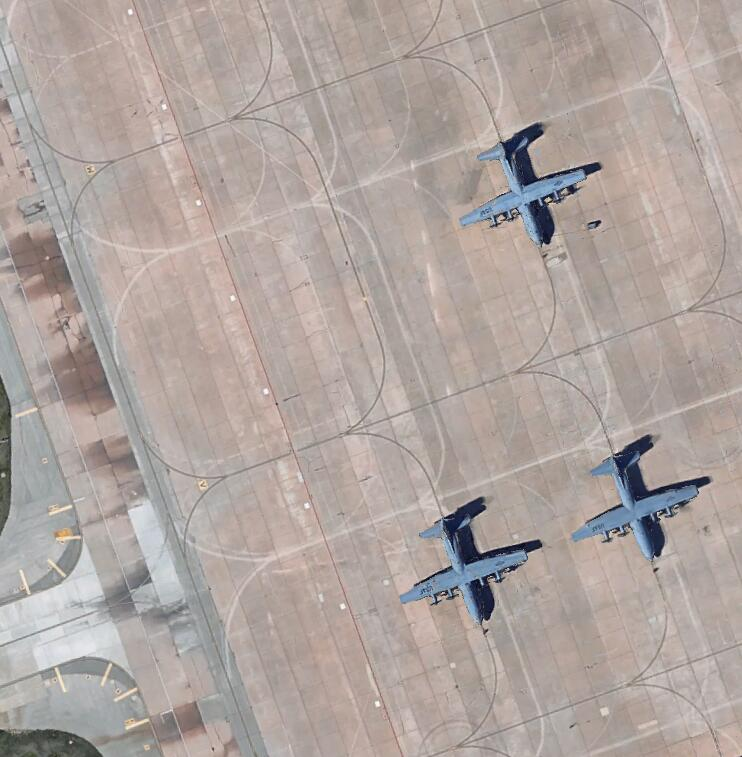A2: (398, 506, 530, 627), (567, 444, 703, 561), (453, 132, 589, 248)
